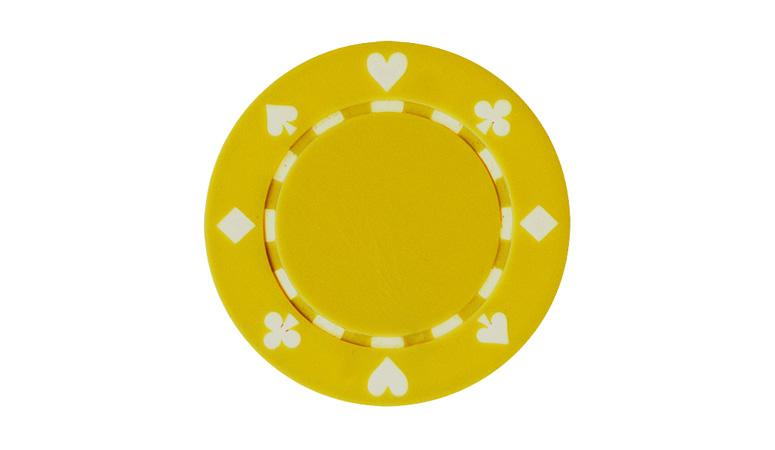chip-yellow: (204, 42, 569, 406)
